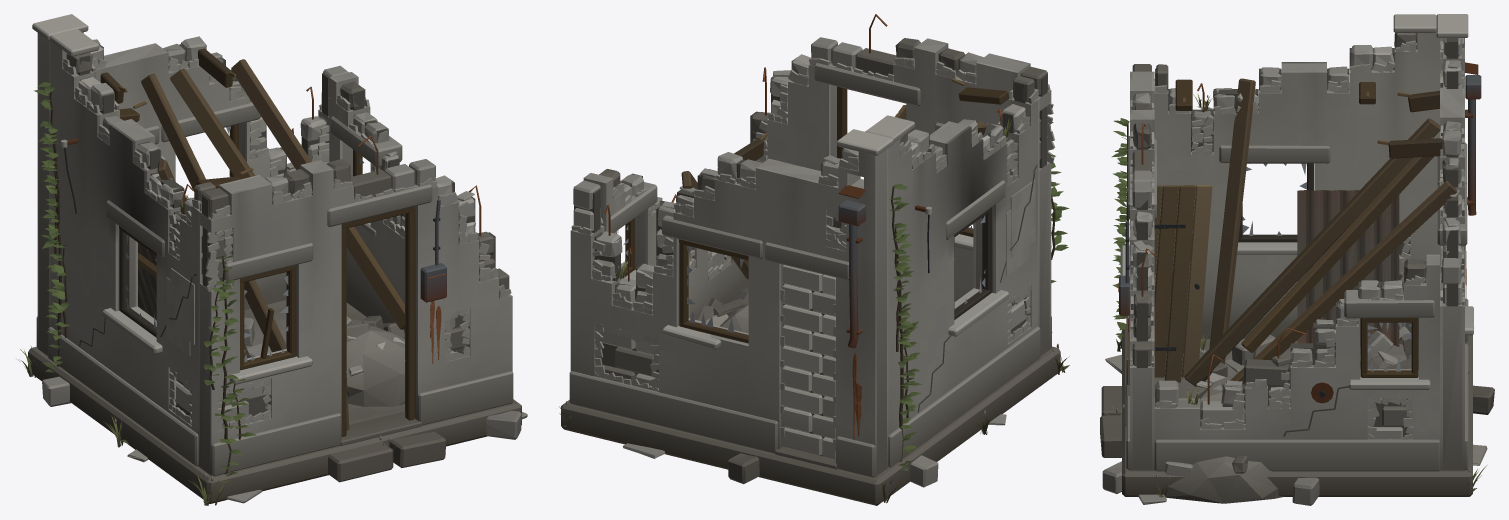
Rendered from ruined-house-shell.glb.
3 views of the same model, side by side, from view 1: azimuth 30°, elevation 25°; view 2: azimuth 150°, elevation 25°; view 3: azimuth 270°, elevation 25° (orthographic). The views are drawn at different scales.
Parts seen in each view (by area): view 1: ruined_house_shell; view 2: ruined_house_shell; view 3: ruined_house_shell.
Part boxes in pixels (x1,y1,x2,y2): ruined_house_shell: (18,14,527,505); ruined_house_shell: (559,14,1069,505); ruined_house_shell: (1100,14,1494,505).
Bounding box in the file's own units: 3.48 × 3.31 × 3.49.
